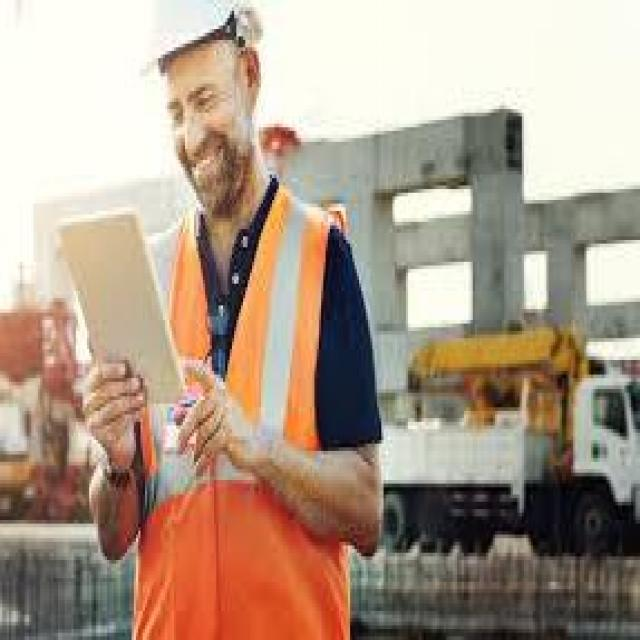Reflective-Jacket: (120, 189, 354, 629)
Safety-Helmet: (134, 0, 270, 73)
